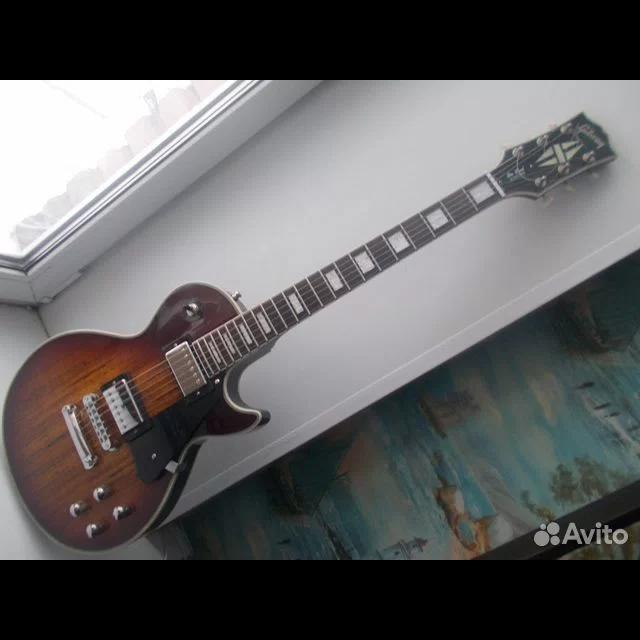Electric-Guitar: (2, 112, 618, 552)
